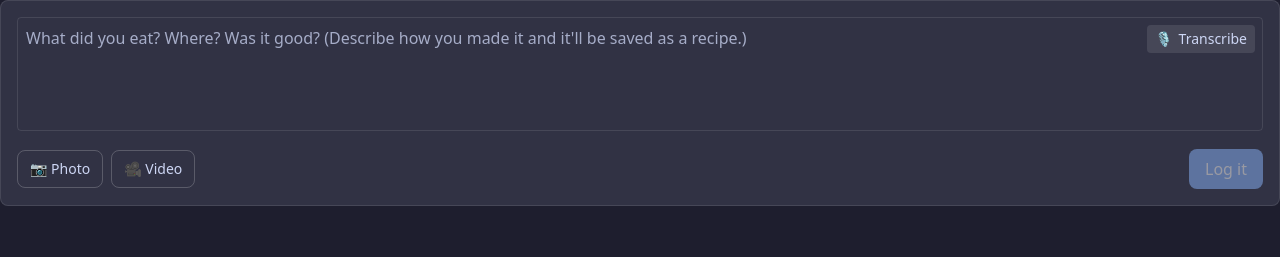
Test: FoodCapture voice clips › stages the clip on stop and never blocks the save
Click the button with test id "food-capture-record" at point(1201, 39), box [1147,25,1255,53]
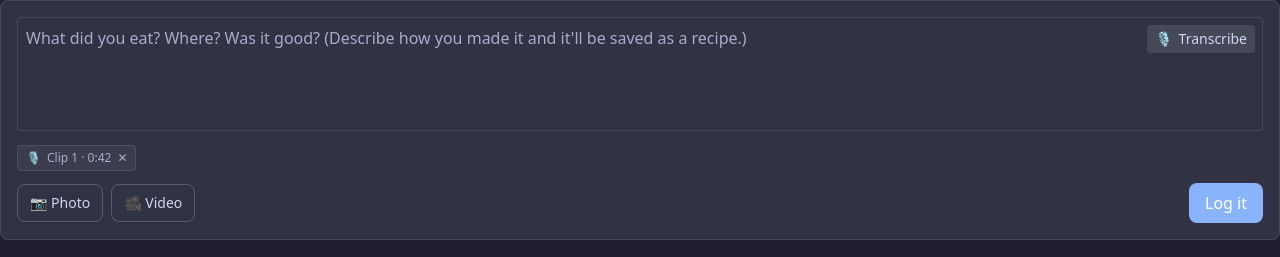
Check: the text "Clip 1 · 0:42" is shown, box [47,150,111,166]
Check: the button "Log it" is enabled, box [1189,183,1263,223]
